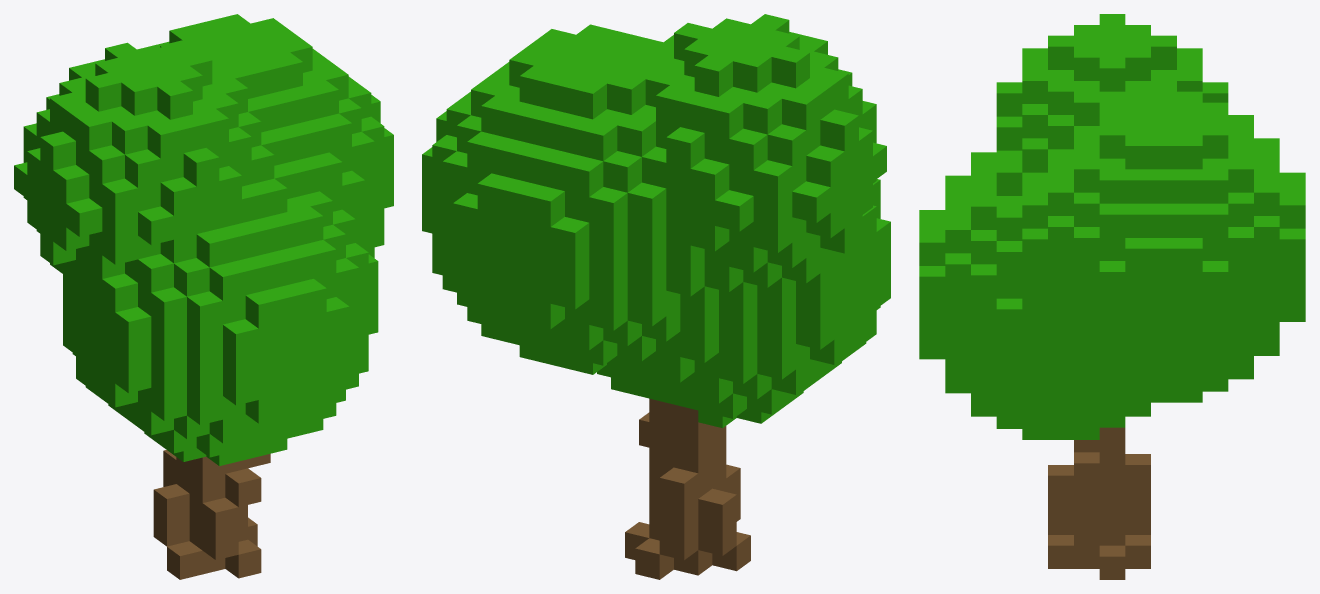
Rendered from tree 1.obj.
The picture shows the model from 3 angles, left to right: view 1: azimuth 30°, elevation 25°; view 2: azimuth 150°, elevation 25°; view 3: azimuth 270°, elevation 25°; orthographic projection. The views are drawn at different scales.
Bounding box in the file's own units: 1.5 × 2.1 × 1.5.
1 material, 1 textured.
